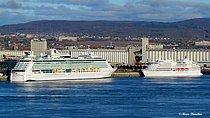Ship: (7, 50, 120, 85), (140, 55, 207, 84)
